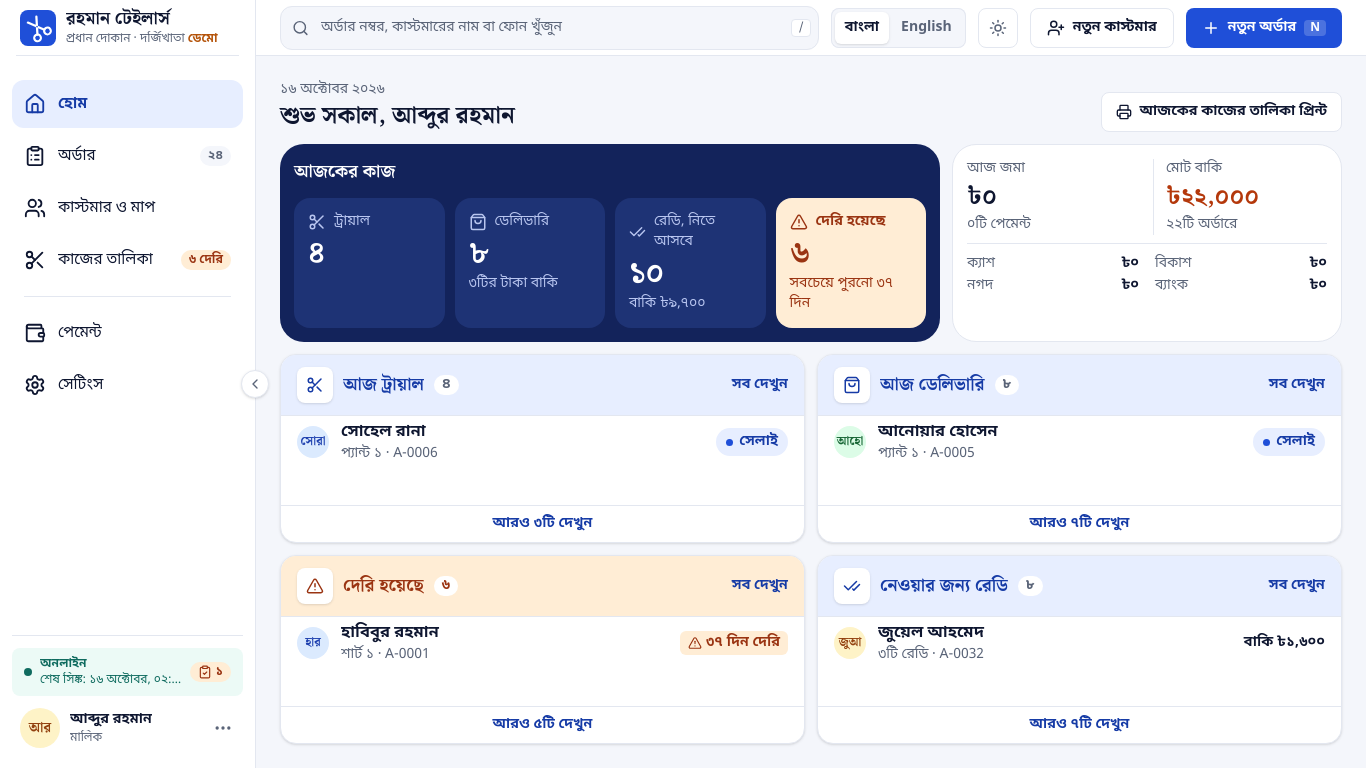
Desktop sidebar and top bar › opens the account and more dialog from the ellipsis button
The width and height of the screenshot is (1366, 768).
Click the button named "অ্যাকাউন্ট ও আরও" at (223, 728), box [203,708,243,748]
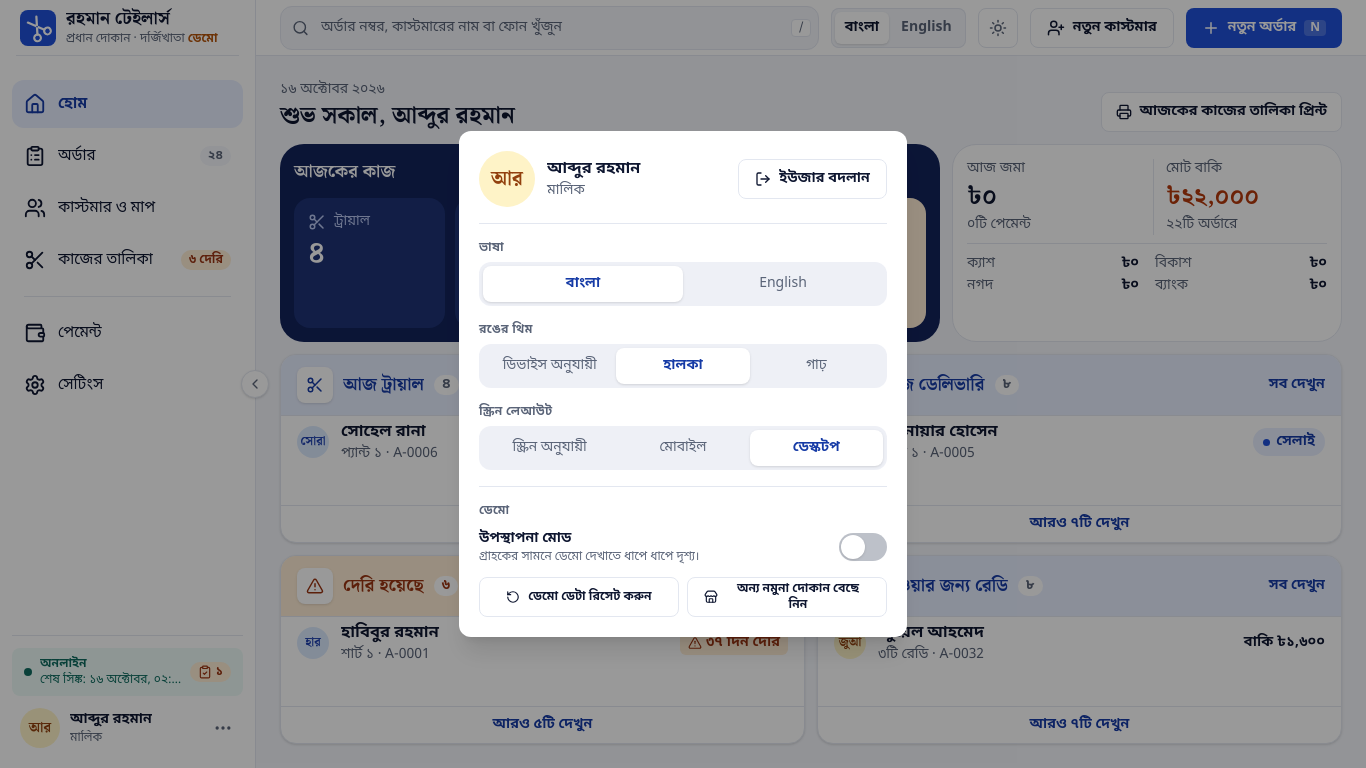
Press Escape
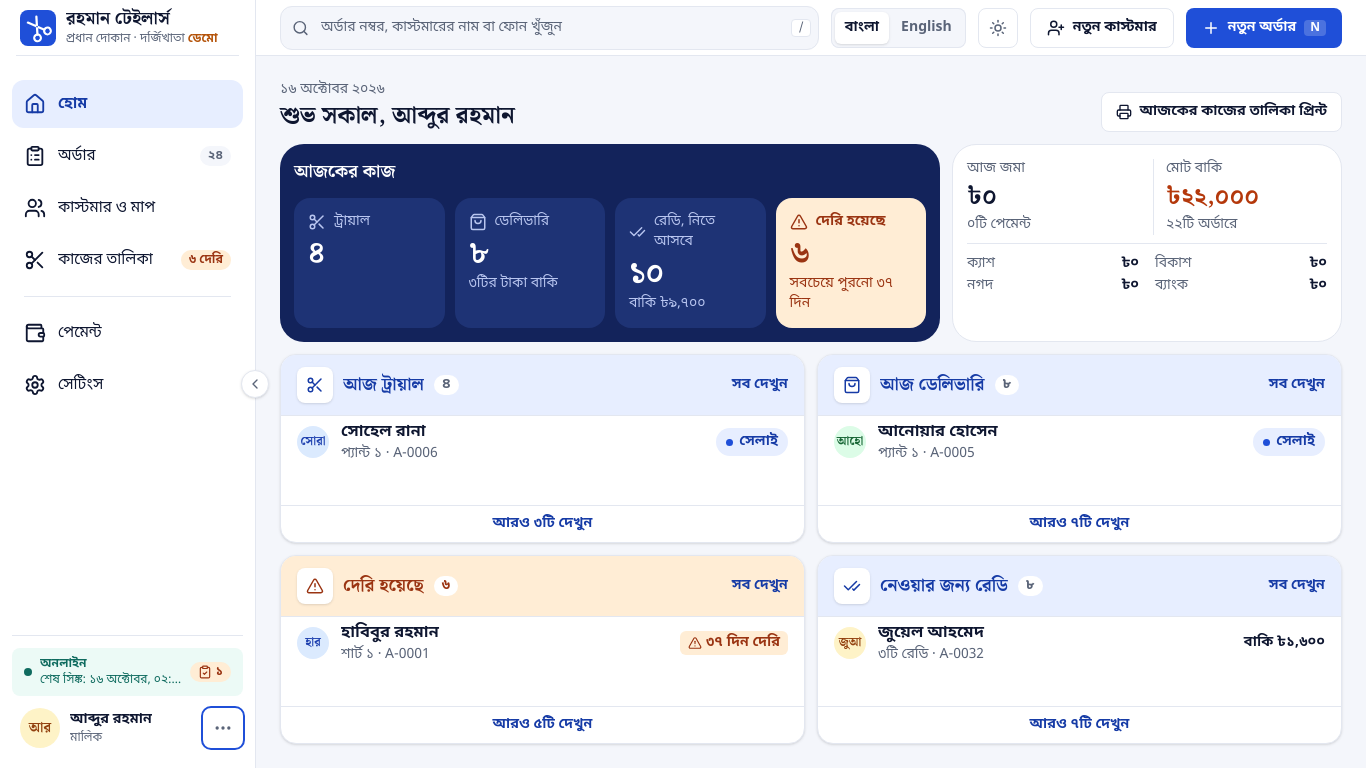
Expected: the dialog is gone
